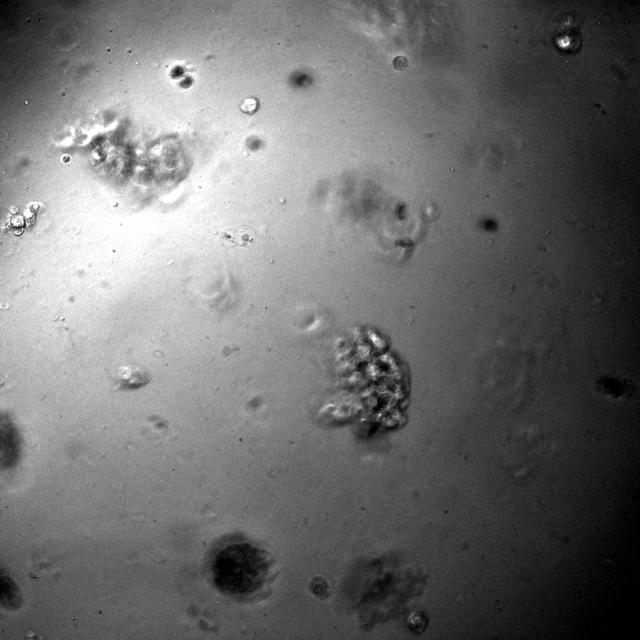organoid: (56, 110, 192, 203), (317, 325, 410, 437), (335, 552, 428, 633), (202, 532, 276, 602), (1, 201, 44, 235), (552, 12, 581, 53), (169, 63, 193, 88), (307, 575, 332, 599), (240, 96, 259, 115), (393, 56, 408, 70)
